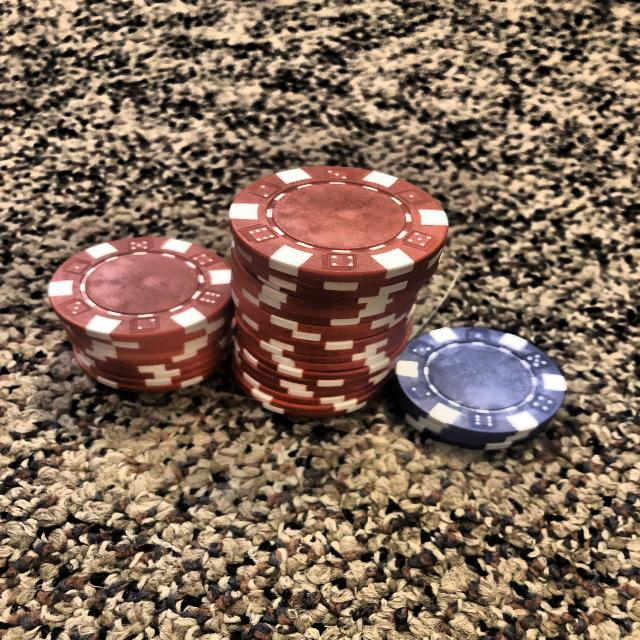Chip: (227, 164, 448, 423), (46, 235, 234, 395), (391, 324, 567, 452)
